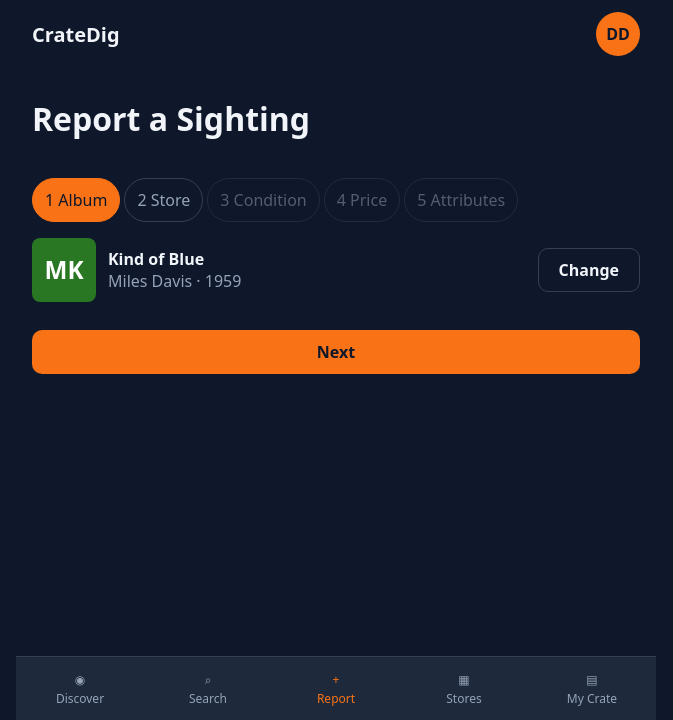
Test case: /report › does not keep a prefilled store the collector cannot see
Expected: the text "Kind of Blue" is shown, [108,248,204,270]
Click the button "Next" at x=336, y=352, box [32,330,640,374]
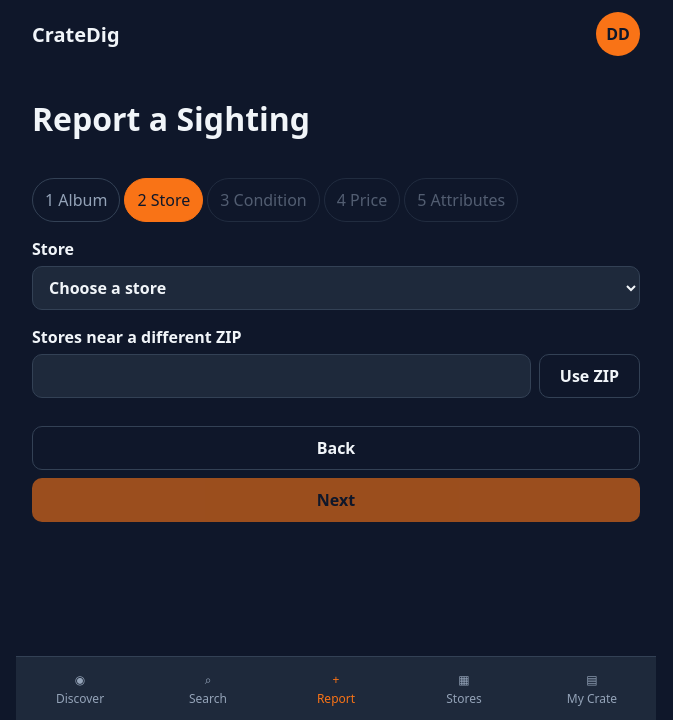
Expected: the dropdown shows "Choose a store", [32,266,640,310]
Expected: the button "Next" is disabled, [32,478,640,522]
